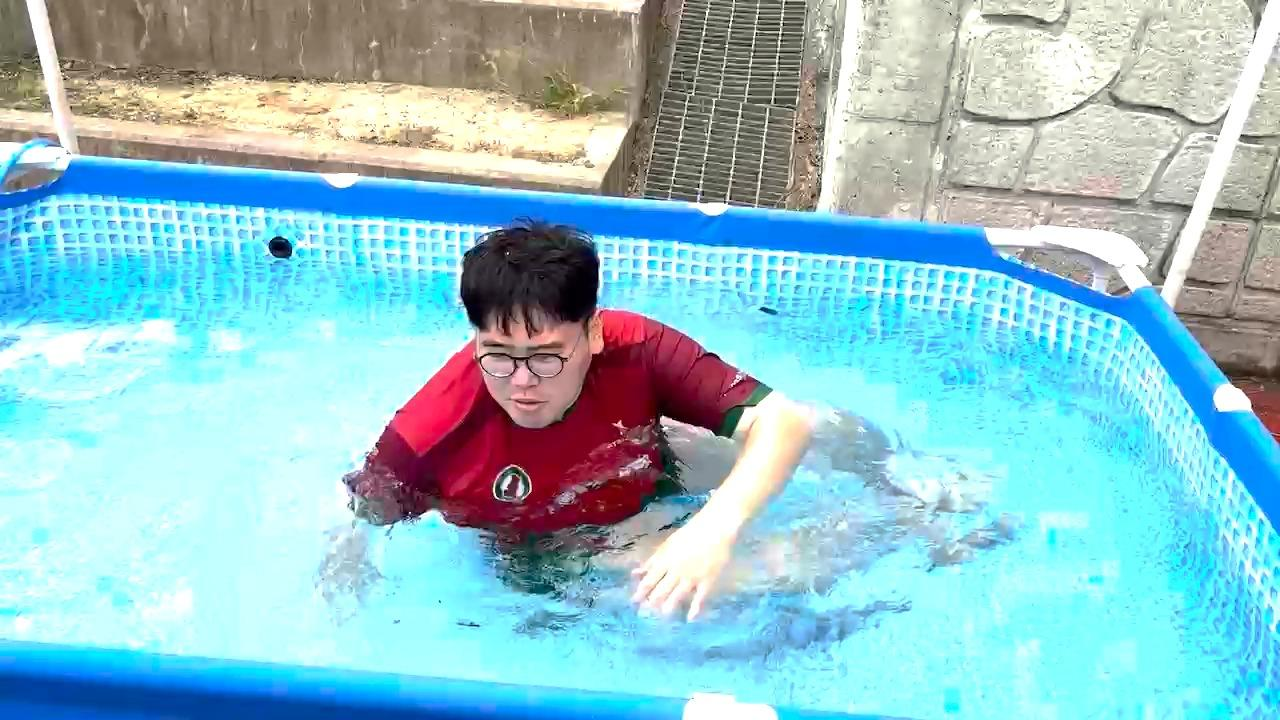Swimming: (287, 197, 1043, 657)
